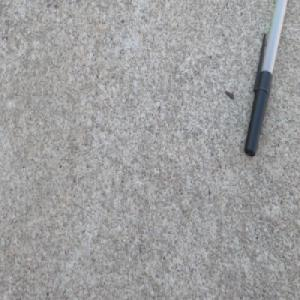Pen: (240, 0, 287, 159)
